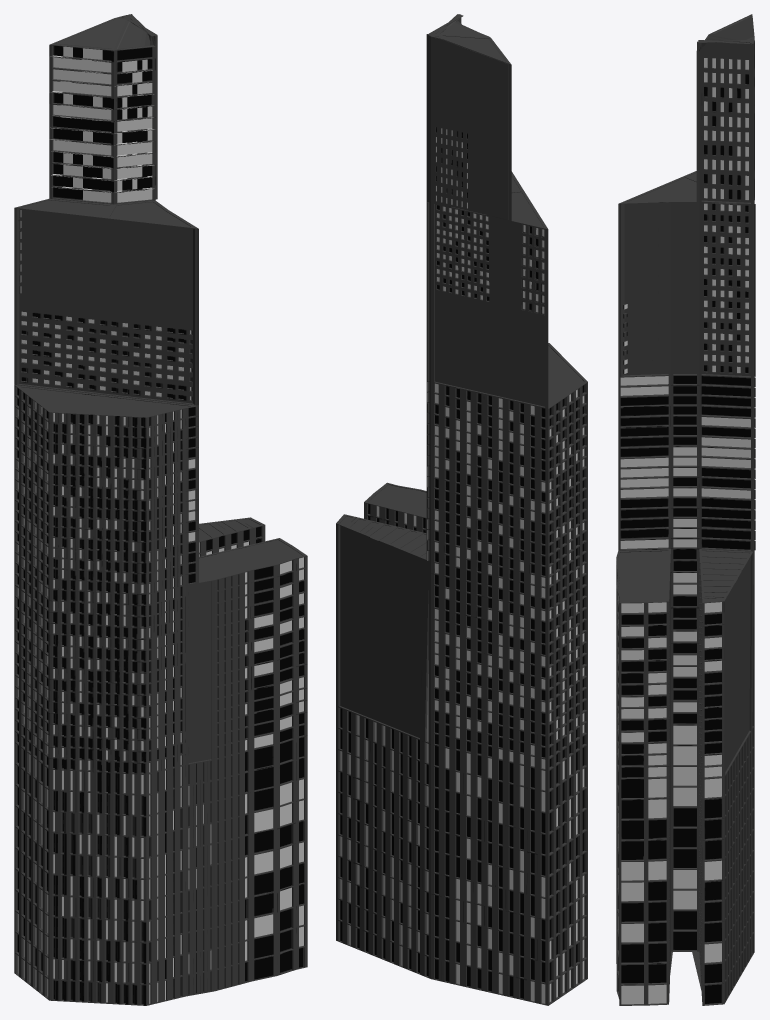
File: twoHalifaxUpdate.fbx
3 views of the same model, side by side, from view 1: azimuth 30°, elevation 25°; view 2: azimuth 150°, elevation 25°; view 3: azimuth 270°, elevation 25° (orthographic). The views are drawn at different scales.
Visible parts, largest first — view 1: twoHalifax; view 2: twoHalifax; view 3: twoHalifax.
Part boxes in pixels (left/top/right/bottom): twoHalifax: left=14, top=14, right=307, bottom=1005; twoHalifax: left=336, top=14, right=587, bottom=1005; twoHalifax: left=616, top=14, right=755, bottom=1005.
Bounding box in the file's own units: 6190 × 24097 × 3346.
